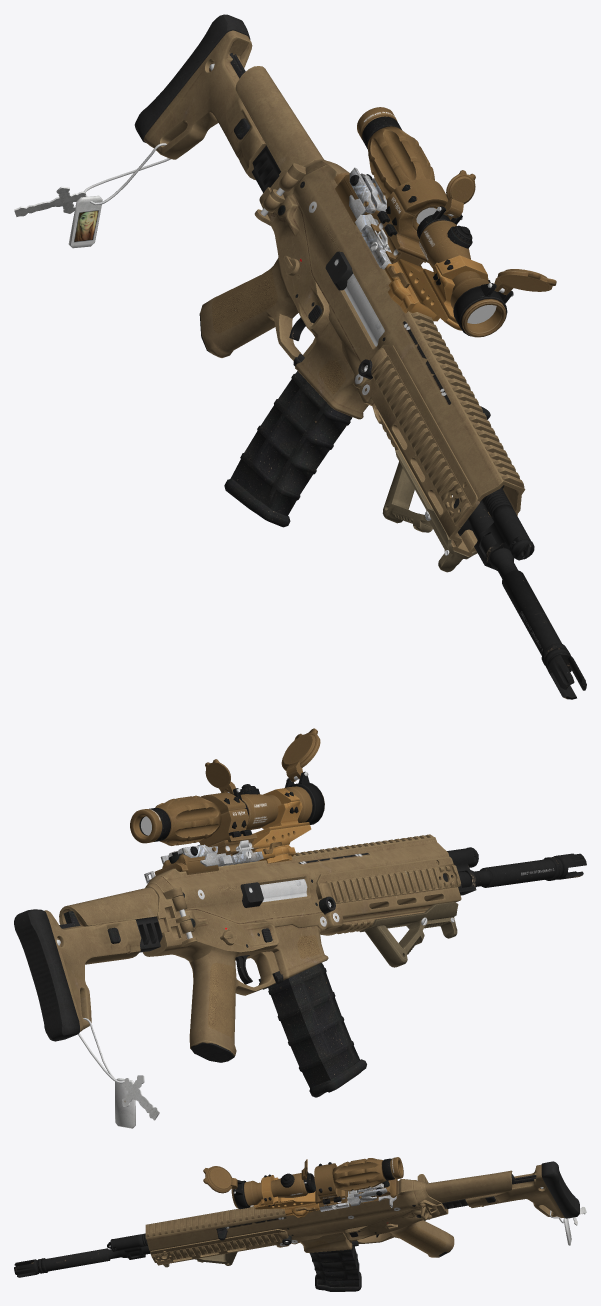
The model's file is gun.glb.
3 renders of one model, top to bottom at view 1: azimuth 30°, elevation 25°; view 2: azimuth 150°, elevation 25°; view 3: azimuth 270°, elevation 25°, orthographic. The views are drawn at different scales.
Parts seen in each view (by area): view 1: Object_4, Object_6, Object_5, Object_3, Object_2, Object_7; view 2: Object_4, Object_6, Object_5, Object_3, Object_2, Object_7; view 3: Object_4, Object_6, Object_3, Object_5, Object_2, Object_7.
Part boxes in pixels (x1,y1,x2,y2): Object_4: (14,30,583,697); Object_6: (14,14,572,669); Object_5: (63,14,586,699); Object_3: (338,107,556,337); Object_2: (334,129,552,330); Object_7: (382,449,477,572); Object_4: (44,837,583,1112); Object_6: (14,834,568,1128); Object_5: (15,835,586,1128); Object_3: (130,728,324,883); Object_2: (141,732,320,875); Object_7: (359,902,458,967); Object_4: (14,1164,582,1277); Object_6: (33,1161,586,1291); Object_3: (203,1157,403,1215); Object_5: (14,1161,584,1287); Object_2: (205,1158,397,1217); Object_7: (163,1252,237,1267).
Bounding box in the file's own units: 19.84 × 29.78 × 87.7.
3 materials, 3 textured.
